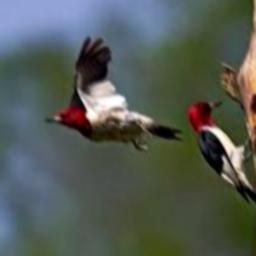Woodpecker: (44, 36, 184, 150), (186, 100, 256, 215)
